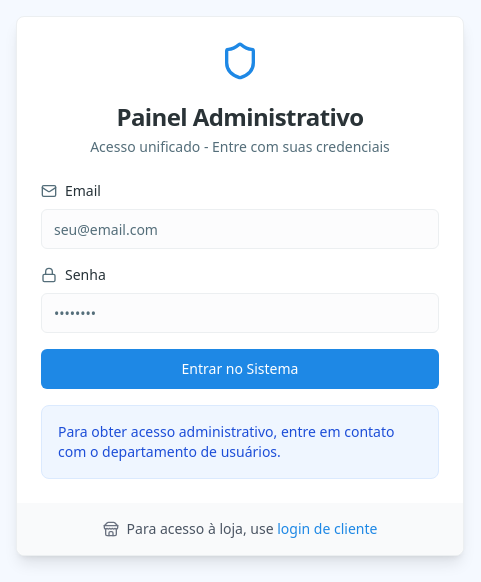
Login Page › botão de login fica desativado enquanto carrega
Type "admin@email.com" into the field labelled "Email" at coordinates (240, 229), box x1=41 y1=209 x2=439 y2=249
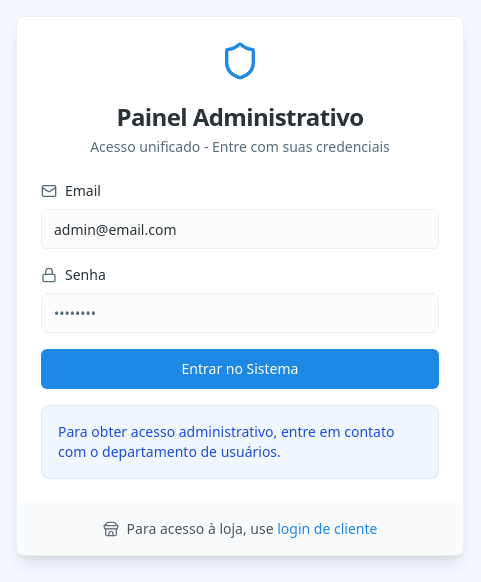
Type "123456" into the password field labelled "Senha" at coordinates (240, 313), box x1=41 y1=293 x2=439 y2=333
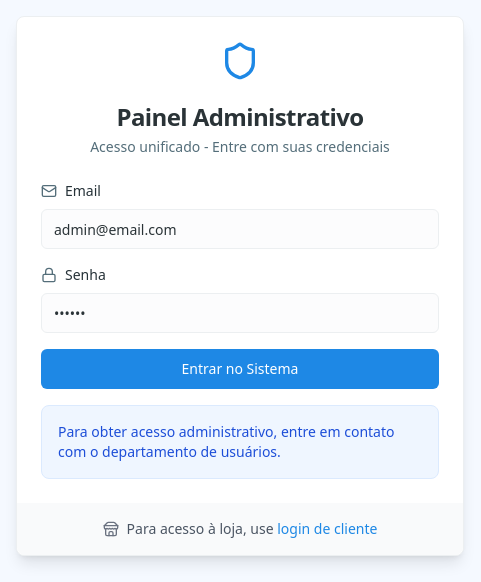
Click the button "Entrar no Sistema" at coordinates (240, 369), box x1=41 y1=349 x2=439 y2=389
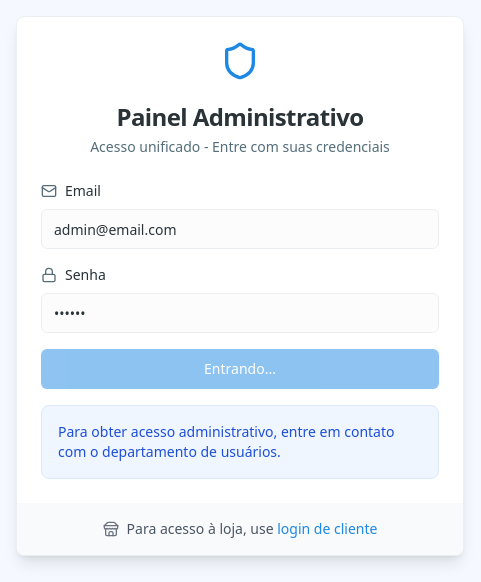
Check: the button named "entrar no sistema" is disabled, box x1=41 y1=349 x2=439 y2=389
